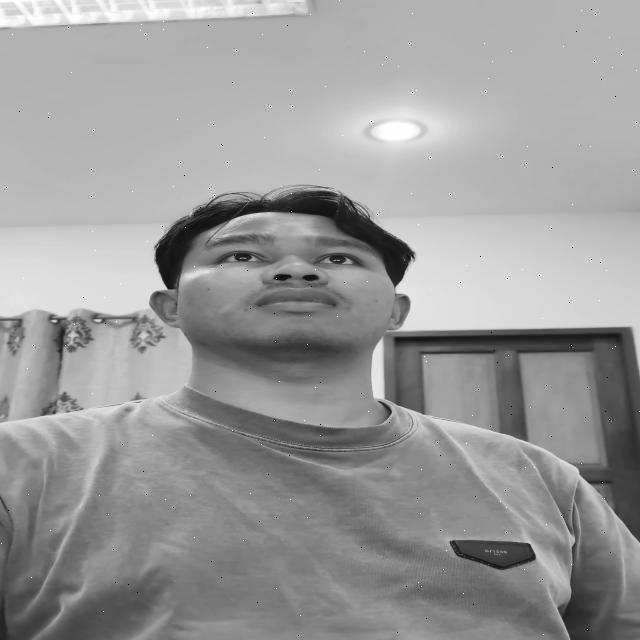ear: (149, 290, 180, 328), (388, 294, 410, 330)
